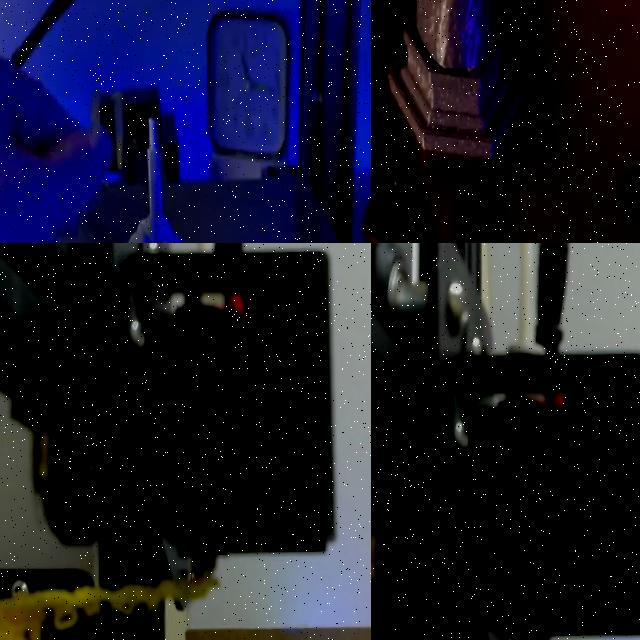spaghetti: (0, 573, 216, 640)
